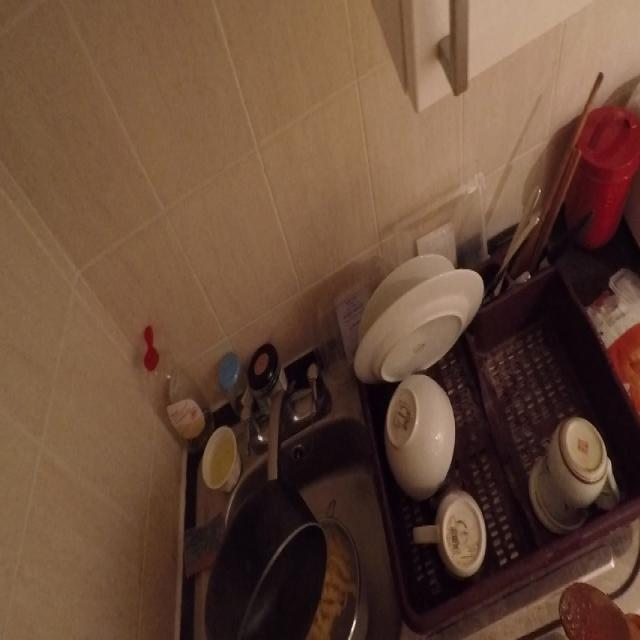bowl: (380, 377, 459, 488)
dish soap: (138, 315, 210, 455)
mug: (535, 400, 612, 535), (412, 487, 491, 583)
plate: (348, 247, 484, 360)
tap: (244, 370, 326, 478)
